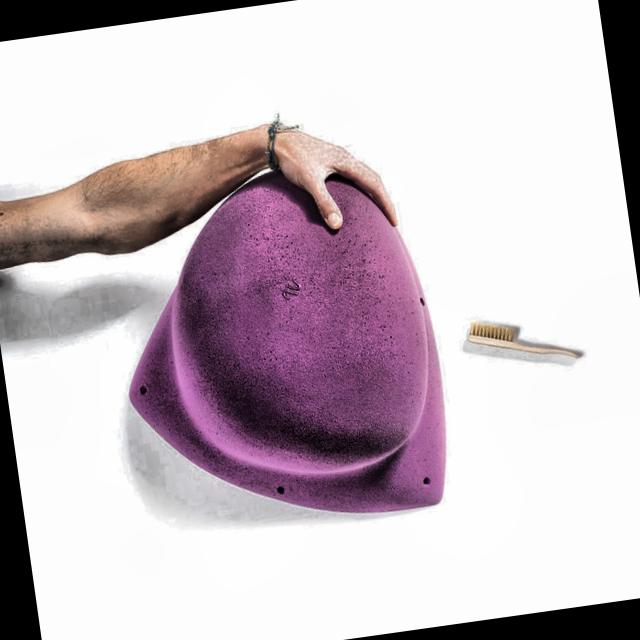Hold: (94, 150, 466, 544)
